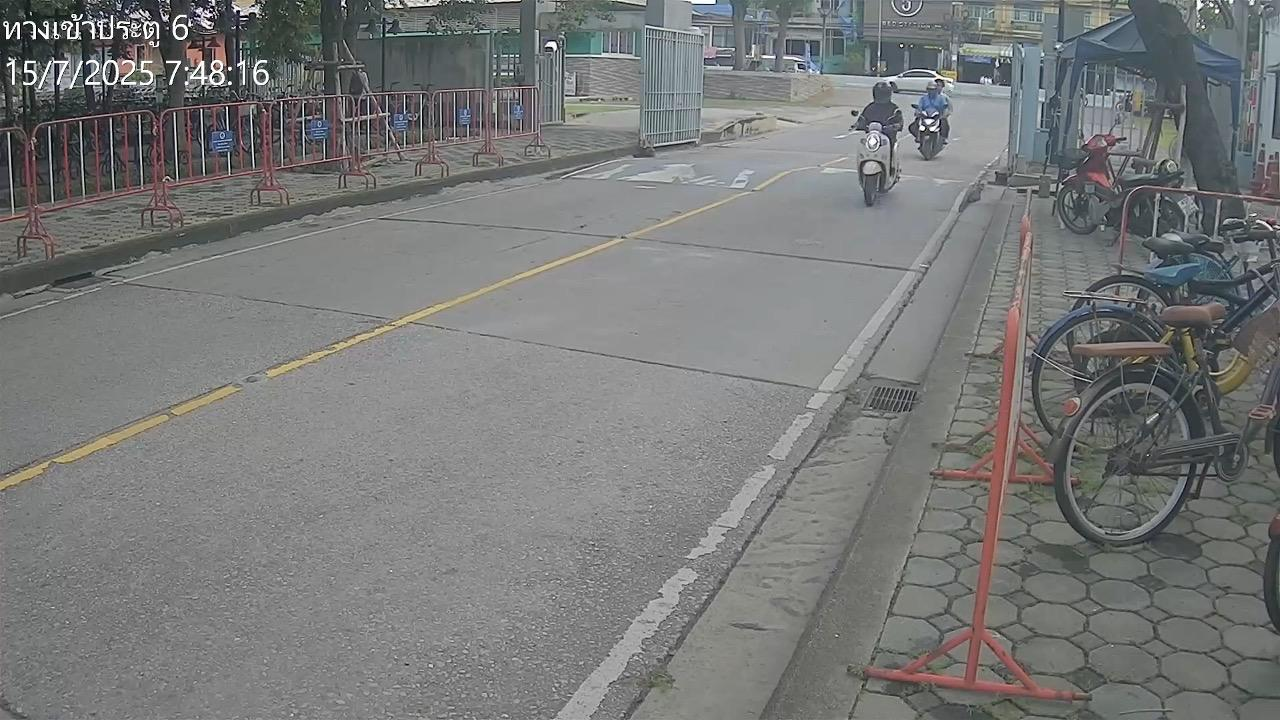With-Helmet: (873, 80, 892, 105), (926, 80, 939, 97)
